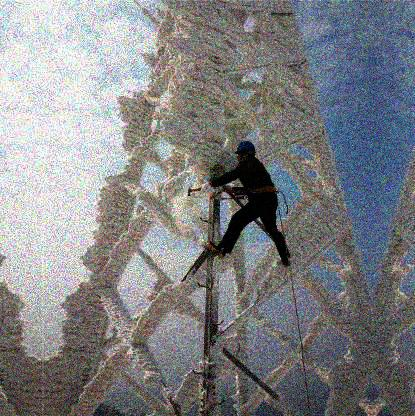helmet: (234, 141, 256, 162)
